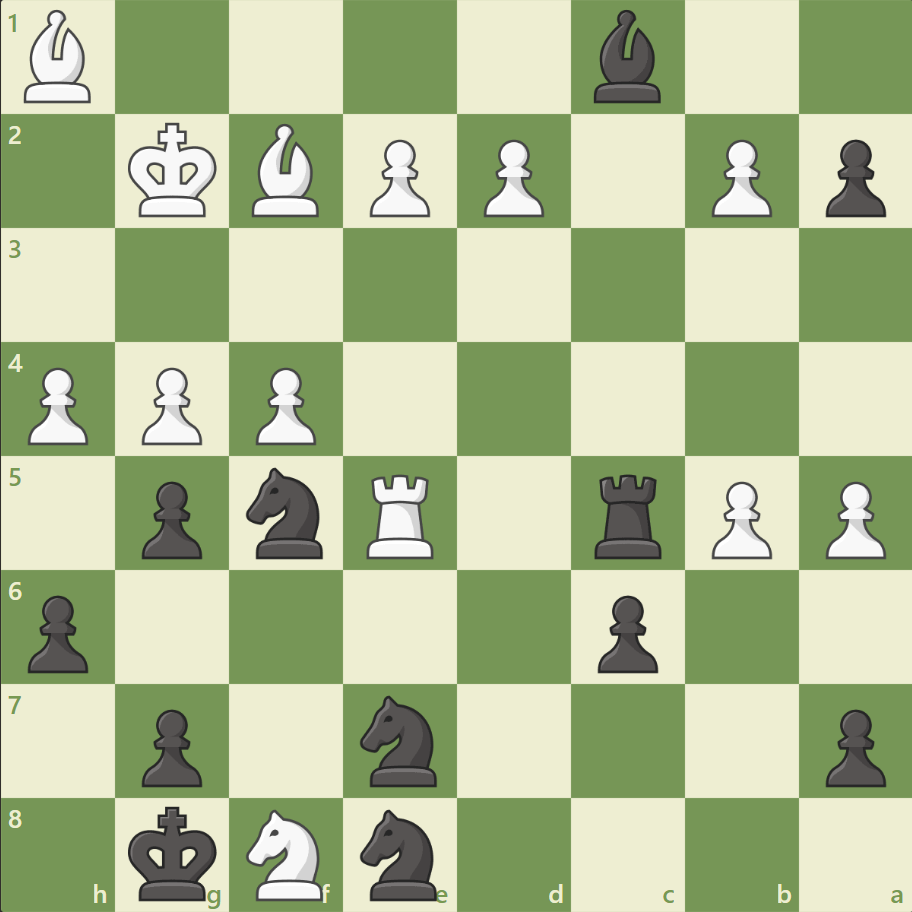B: (17, 6, 101, 109), (244, 120, 328, 222)
K: (124, 117, 224, 225)
N: (238, 802, 335, 904)
P: (701, 473, 776, 564), (247, 359, 322, 450), (133, 359, 208, 450), (20, 359, 95, 450), (701, 132, 776, 223), (474, 132, 549, 223), (815, 473, 889, 564), (361, 132, 435, 223)
R: (360, 466, 442, 563)
b: (585, 6, 669, 109)
k: (124, 798, 224, 906)
n: (351, 688, 449, 791), (351, 802, 449, 904), (238, 461, 335, 564)
p: (133, 700, 208, 791), (20, 586, 95, 677), (133, 473, 208, 564), (815, 700, 889, 791), (588, 586, 662, 677), (815, 132, 889, 223)
r: (587, 466, 670, 563)
